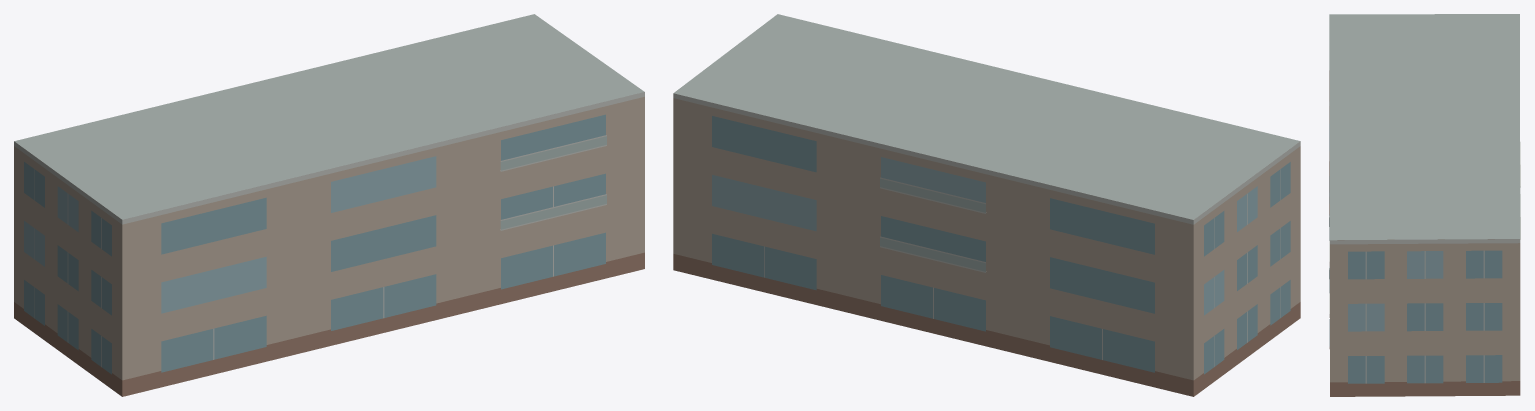
File: survey-upis-32775370.glb
3 views of the same model, side by side, from view 1: azimuth 30°, elevation 25°; view 2: azimuth 150°, elevation 25°; view 3: azimuth 270°, elevation 25° (orthographic). The views are drawn at different scales.
Visible parts, largest first — view 1: survey-upis-32775370.tmp; view 2: survey-upis-32775370.tmp; view 3: survey-upis-32775370.tmp.
Boxes of the visible parts, bbox=[...] form: survey-upis-32775370.tmp: bbox=[14, 14, 644, 396]; survey-upis-32775370.tmp: bbox=[673, 14, 1300, 396]; survey-upis-32775370.tmp: bbox=[1329, 14, 1520, 396].
Size of the model in its own units: 28.02 by 9.05 by 10.03.
